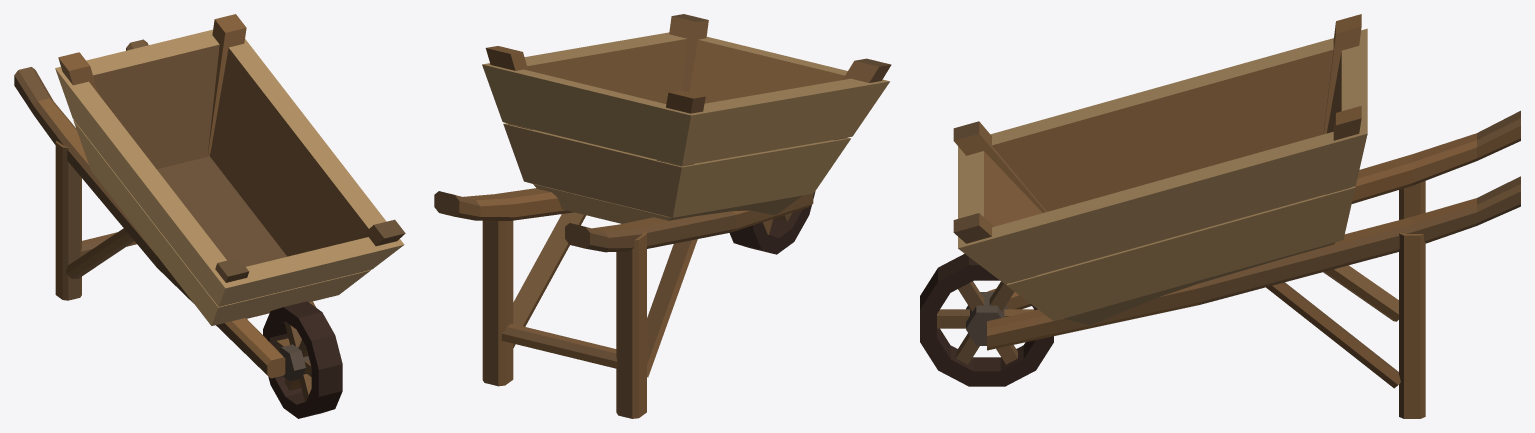
Rendered from wheelbarrow-0f8406.glb.
3 renders of one model, left to right at view 1: azimuth 30°, elevation 25°; view 2: azimuth 150°, elevation 25°; view 3: azimuth 270°, elevation 25°, orthographic. The views are drawn at different scales.
Visible parts, largest first — view 1: barrow-body, wheel-mesh; view 2: barrow-body, wheel-mesh; view 3: barrow-body, wheel-mesh.
Boxes of the visible parts, left/top/right/bottom form: barrow-body: left=14, top=14, right=405, bottom=378; wheel-mesh: left=263, top=301, right=342, bottom=418; barrow-body: left=434, top=14, right=891, bottom=418; wheel-mesh: left=729, top=191, right=815, bottom=254; barrow-body: left=953, top=14, right=1520, bottom=418; wheel-mesh: left=920, top=253, right=1053, bottom=386.
Bounding box in the file's own units: 0.5378 × 0.7488 × 1.3.
